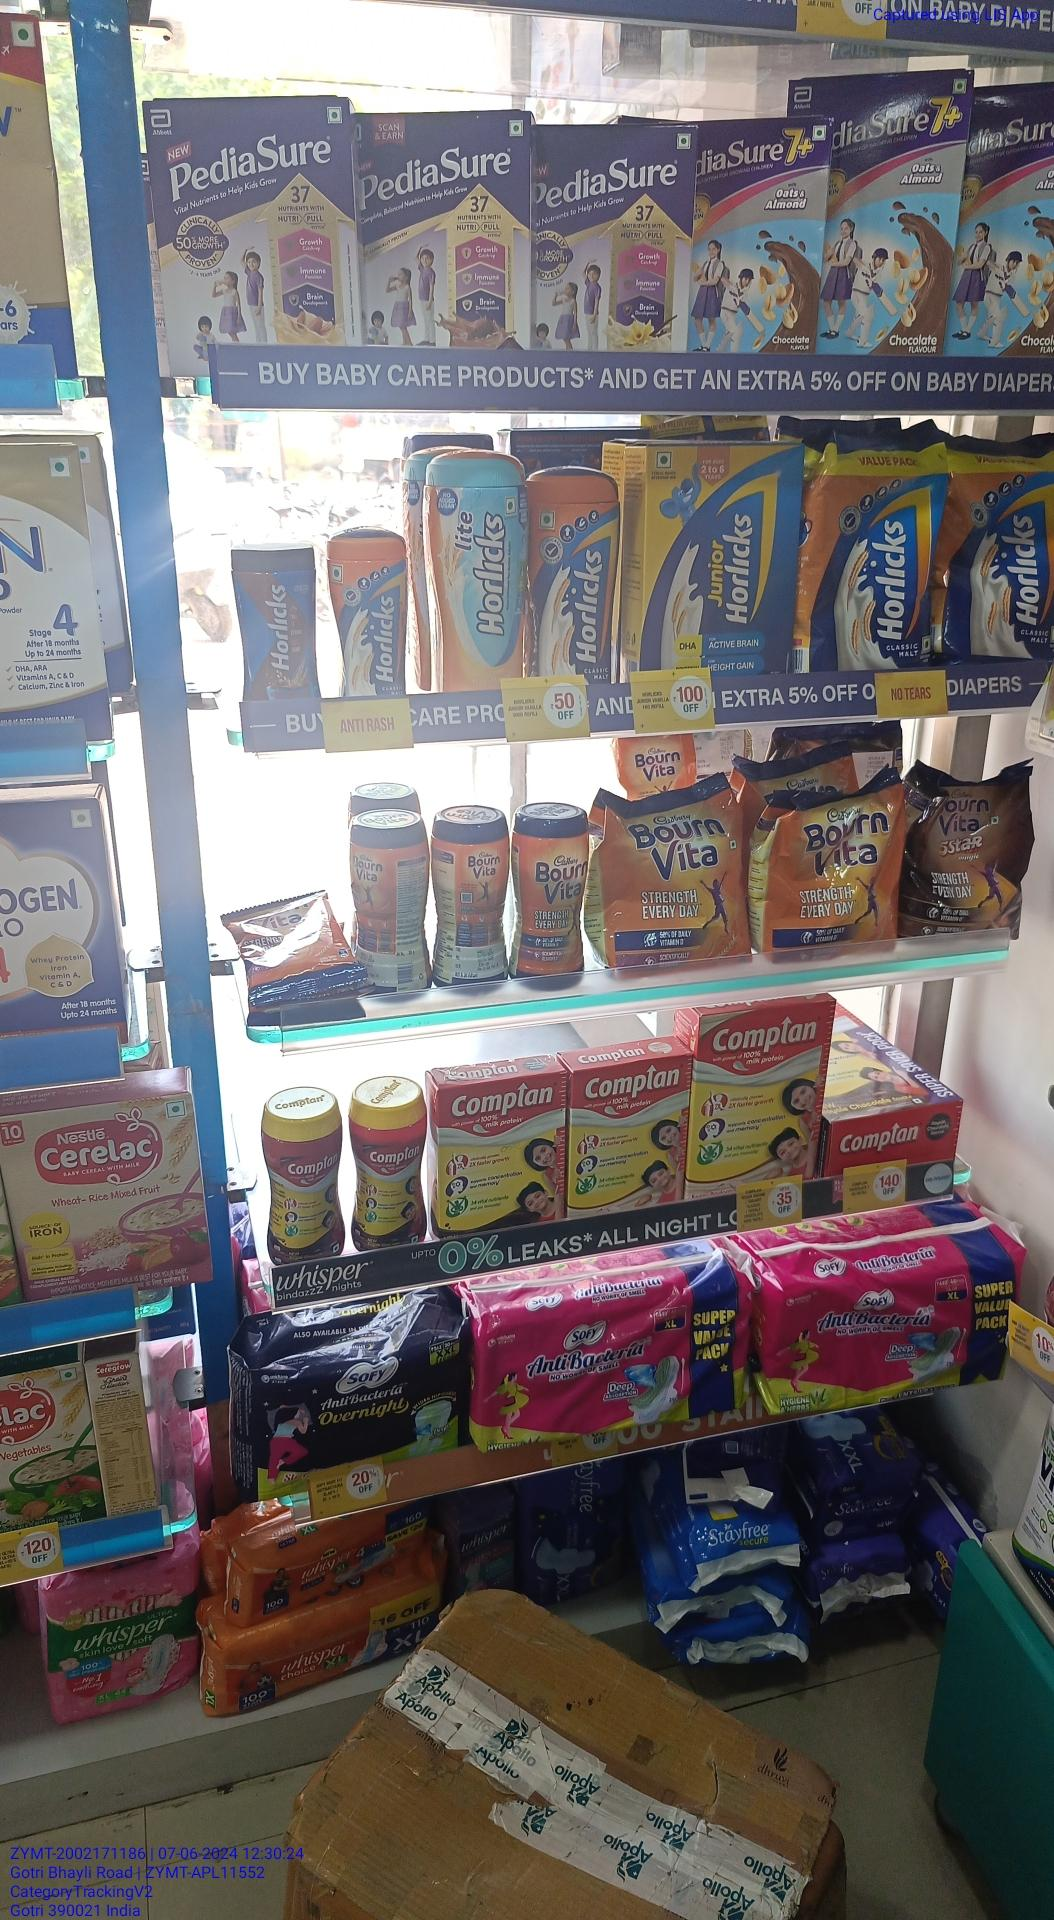BOURN_VITA_FIVE_STAR_MAGIC_500_G_POUCH: (920, 767, 1011, 944)
HORLICKS_LITE_REGULAR_MALT_500_GM_JAR: (440, 455, 526, 693)
HORLICK_CLASSIC_MALT_200_G_JAR: (332, 537, 408, 704)
HORLICK_CLASSIC_MALT_500_G_JAR: (536, 475, 609, 682)
HORLICK_CLASSIC_MALT_750_G_POUCH: (819, 449, 936, 669), (946, 436, 1054, 659)
PEDIASURE_7_PLUS_CHOCOLATE_400_G_PACK: (697, 119, 822, 354)
